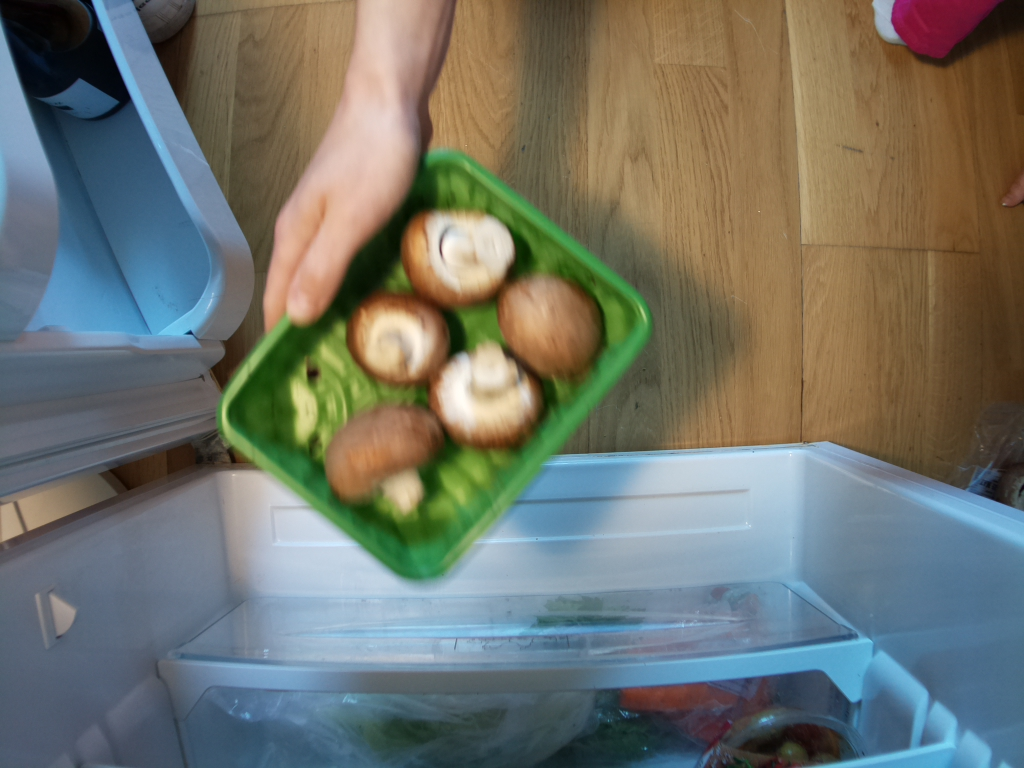mushrooms: (215, 151, 657, 588)
